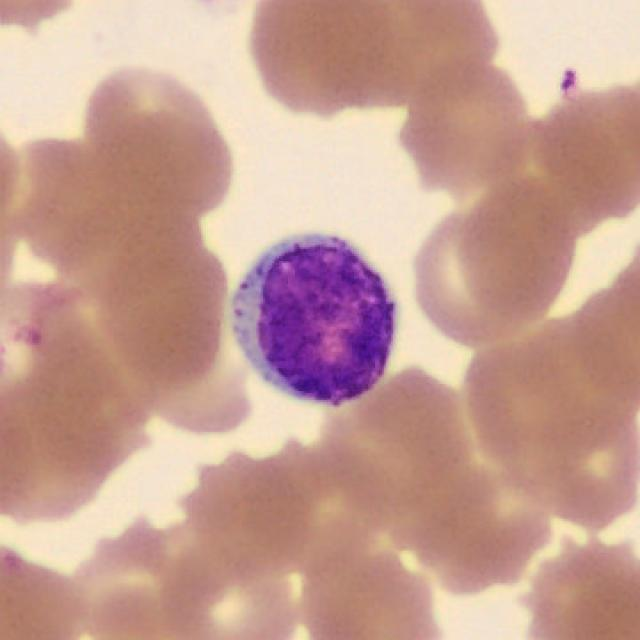Linfocito: (233, 233, 396, 409)
